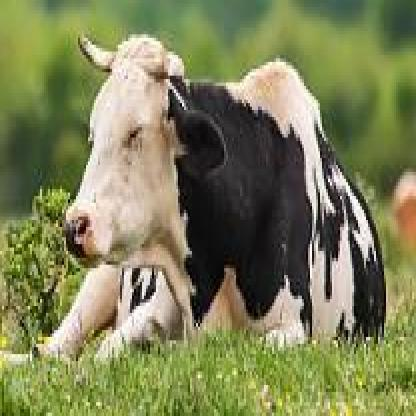cow: (34, 36, 386, 363)
